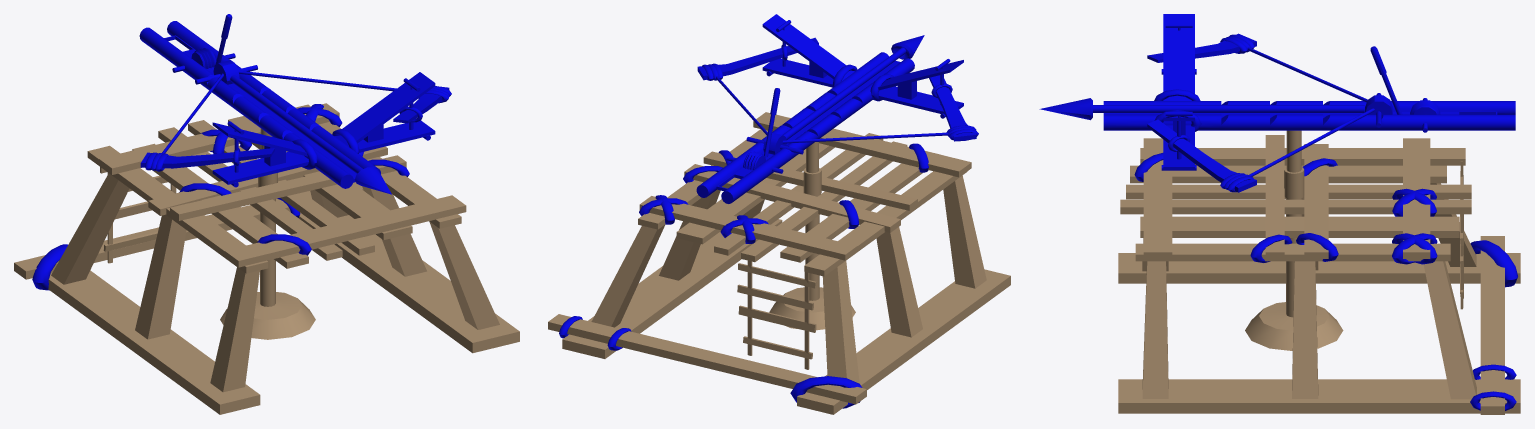
Rendered from Ballista_Slow.fbx.
3 renders of one model, left to right at view 1: azimuth 30°, elevation 25°; view 2: azimuth 150°, elevation 25°; view 3: azimuth 270°, elevation 25°, orthographic. The views are drawn at different scales.
Visible parts, largest first — view 1: Ballista_Slow; view 2: Ballista_Slow; view 3: Ballista_Slow.
Boxes of the visible parts, x1,y1,x2,y2 form: Ballista_Slow: (14, 14, 519, 414); Ballista_Slow: (548, 14, 1010, 414); Ballista_Slow: (1039, 14, 1520, 414).
Size of the model in its own units: 76 by 60.19 by 89.84.
